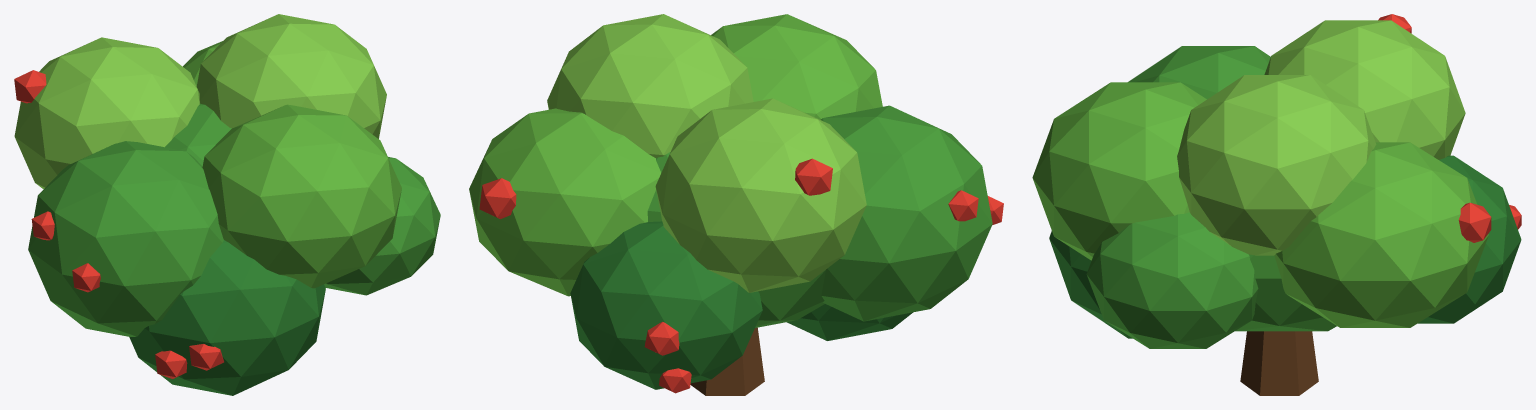
The model's file is bush.glb.
3 renders of one model, left to right at view 1: azimuth 30°, elevation 25°; view 2: azimuth 150°, elevation 25°; view 3: azimuth 270°, elevation 25°, orthographic. The views are drawn at different scales.
Visible parts, largest first — view 1: Bush_Crown; view 2: Bush_Crown, Bush_Trunk; view 3: Bush_Crown, Bush_Trunk.
Part boxes in pixels (left/top/right/bottom): Bush_Crown: left=14, top=14, right=440, bottom=395; Bush_Crown: left=469, top=14, right=1003, bottom=393; Bush_Trunk: left=690, top=327, right=764, bottom=395; Bush_Crown: left=1032, top=14, right=1521, bottom=348; Bush_Trunk: left=1240, top=331, right=1318, bottom=395.
Bounding box in the file's own units: 1.1 × 0.8505 × 1.12.
